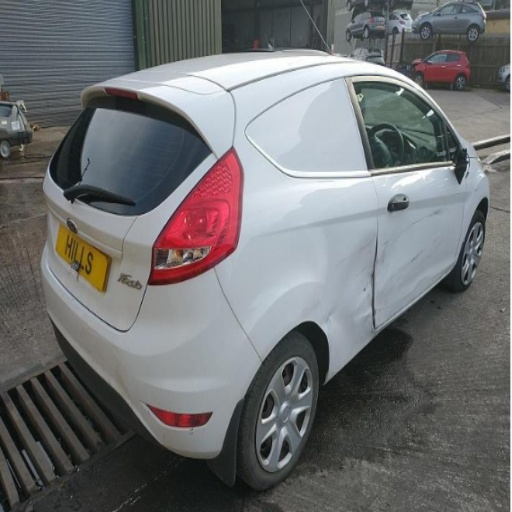dent: (301, 235, 374, 365), (376, 222, 454, 326)
scratch: (411, 209, 442, 225), (375, 240, 389, 265), (410, 254, 419, 263)
